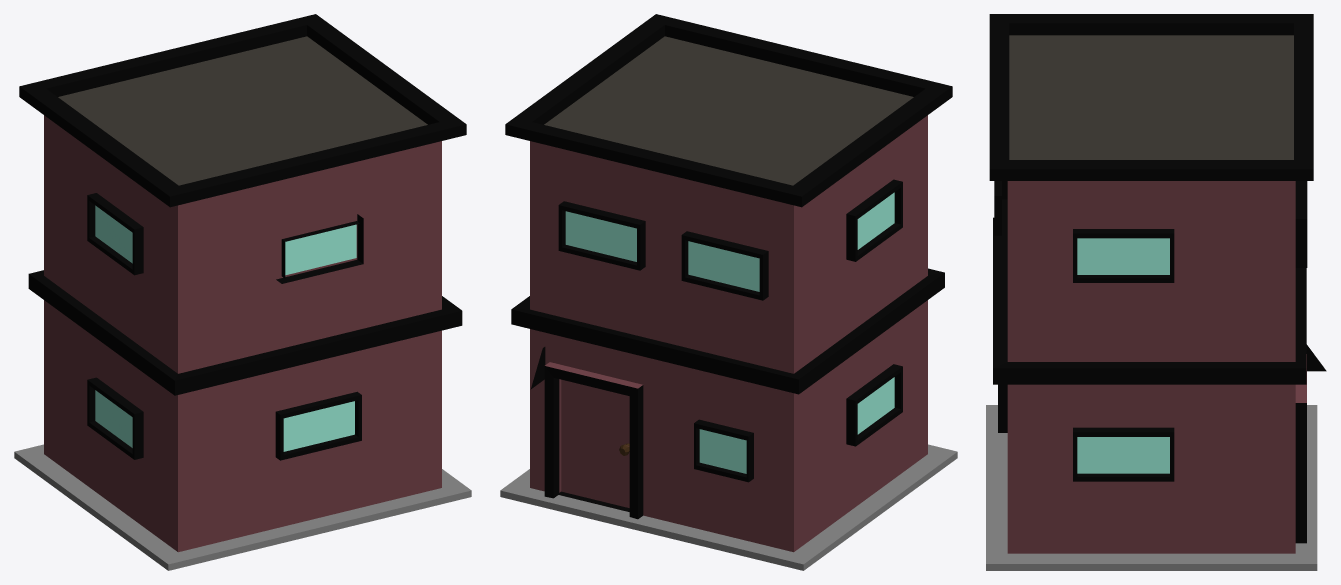
The model's file is Building2.glb.
3 renders of one model, left to right at view 1: azimuth 30°, elevation 25°; view 2: azimuth 150°, elevation 25°; view 3: azimuth 270°, elevation 25°, orthographic. The views are drawn at different scales.
Parts seen in each view (by area): view 1: Cube; view 2: Cube; view 3: Cube.
Boxes of the visible parts, <box> form: Cube: <box>14,14,471,570</box>; Cube: <box>500,14,957,570</box>; Cube: <box>986,14,1326,570</box>.
Size of the model in its own units: 5.8 by 6.81 by 5.26.
